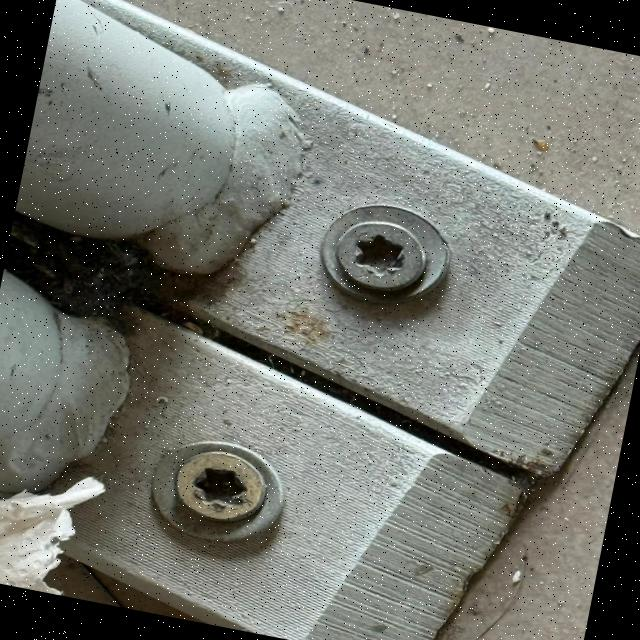Torx: (169, 439, 274, 534), (329, 212, 435, 302)
